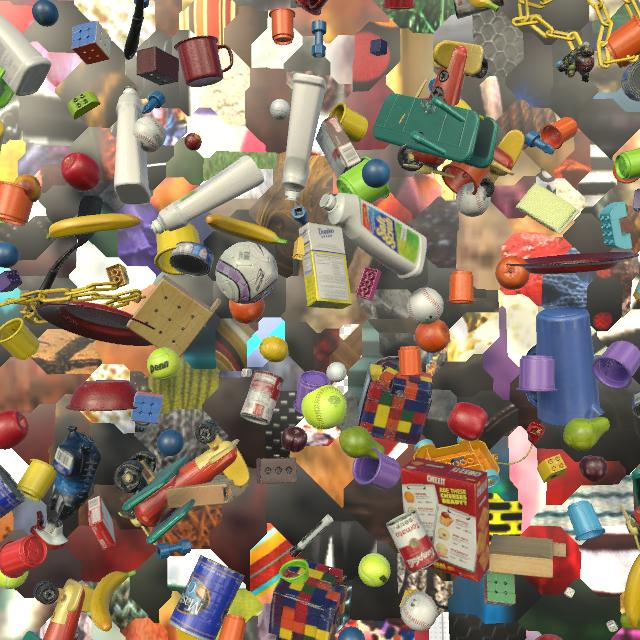ycb_002_master_chef_can: (168, 555, 245, 640), (0, 465, 25, 519)
ycb_003_cracker_box: (401, 457, 490, 582)
ycb_004_sugar_box: (299, 223, 352, 309)
ycb_005_tomato_soup_can: (386, 510, 440, 574), (240, 370, 284, 425), (453, 0, 504, 19)
ycb_006_mustard_bottle: (0, 121, 5, 152)
ycb_007_tuna_fish_can: (169, 241, 214, 277), (622, 59, 640, 102), (632, 390, 640, 418)
ycb_008_pudding_box: (316, 115, 361, 179)
ycb_009_gelatin_box: (88, 495, 116, 550)
ycb_011_banana: (90, 569, 136, 632), (46, 214, 141, 241), (206, 214, 288, 245), (624, 554, 640, 628), (468, 0, 499, 12)
ycb_013_apple: (61, 152, 101, 192), (447, 402, 488, 441), (0, 410, 29, 450), (535, 634, 563, 640)
ycb_014_lemon: (259, 336, 289, 362)
ycb_015_peach: (13, 174, 42, 203)
ycb_016_pear: (563, 417, 610, 451), (339, 426, 385, 460), (620, 612, 640, 630)
ycb_017_orange: (415, 319, 450, 353), (495, 256, 530, 290), (229, 299, 265, 324)
ycb_018_plum: (579, 456, 608, 482), (281, 426, 307, 453)
